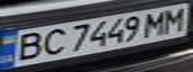4: (87, 17, 112, 48), (106, 16, 127, 46)
7: (66, 21, 93, 52)
9: (121, 12, 148, 43)
B: (6, 29, 48, 62)
C: (36, 26, 69, 56)
M: (157, 4, 190, 34), (139, 8, 172, 37)
